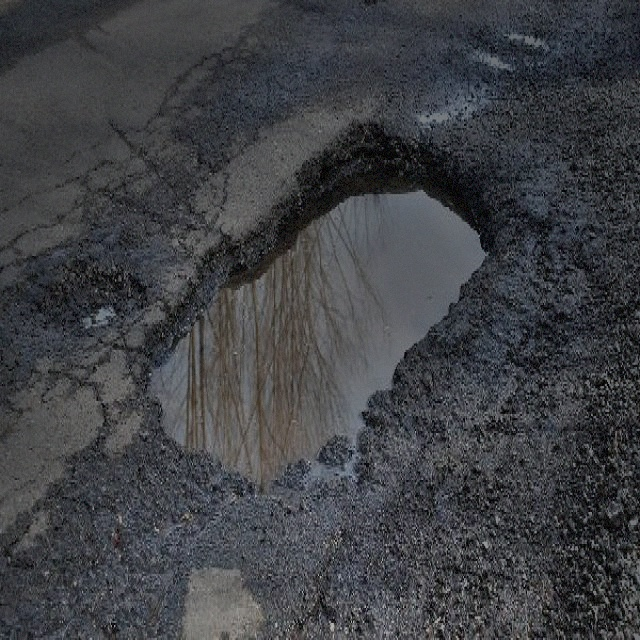pothole: (137, 113, 496, 495), (21, 250, 146, 335)
